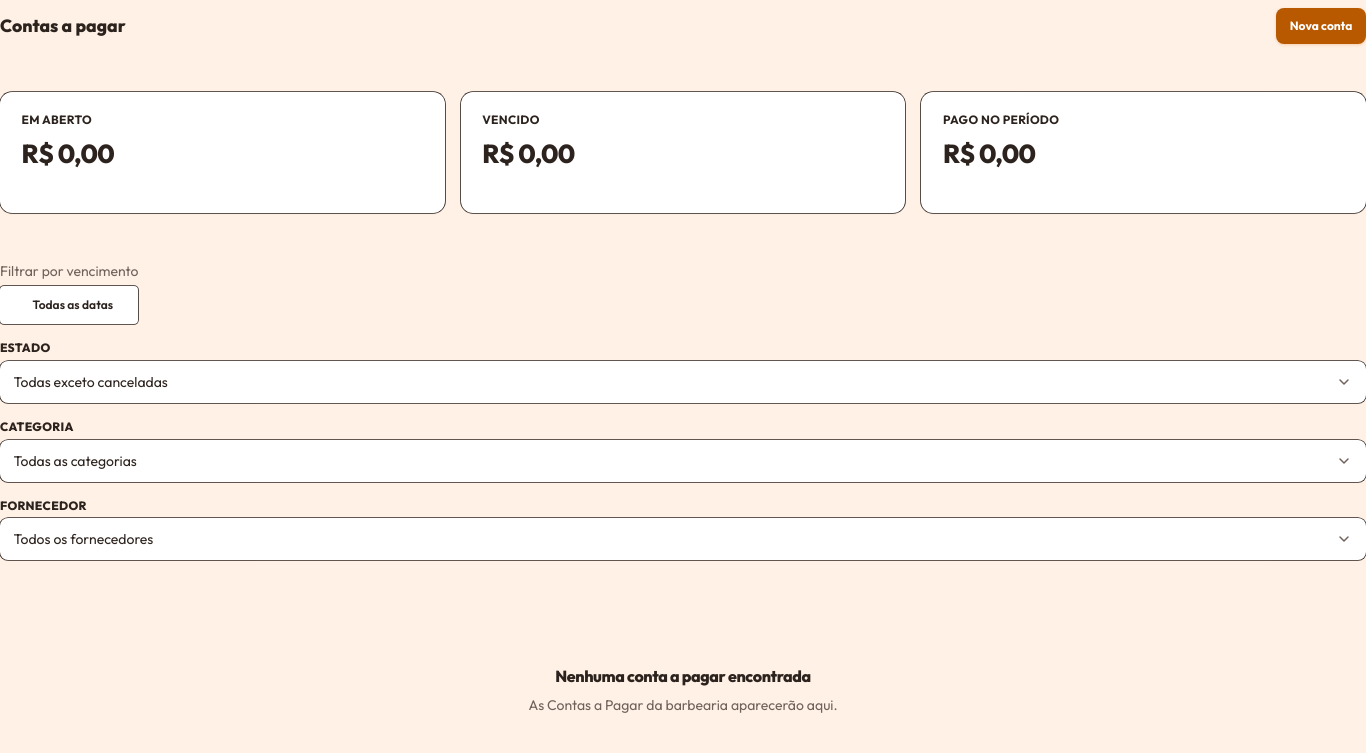
Test: ContasPagarTab (adaptador simulado) › voltar para a variante Avulsa limpa a prévia da Recorrência
The width and height of the screenshot is (1366, 753).
Expected: the heading "Nenhuma conta a pagar encontrada" is shown, [555,664,811,688]
Click the button "Nova conta" at (1321, 26), box [1276,8,1365,44]
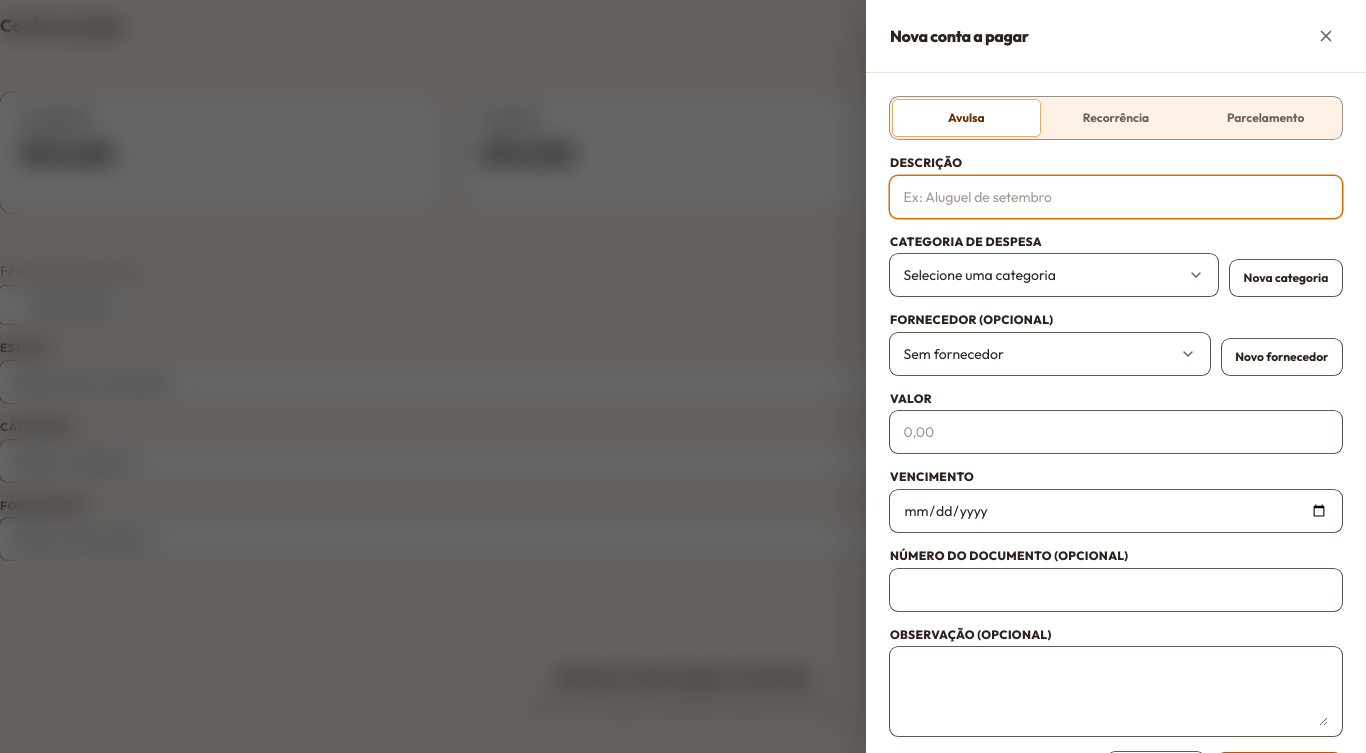
Now the field labelled "Descrição" is shown, box [904,179,1328,215]
Click the tab "Recorrência" at (1116, 118), box [1043,100,1189,136]
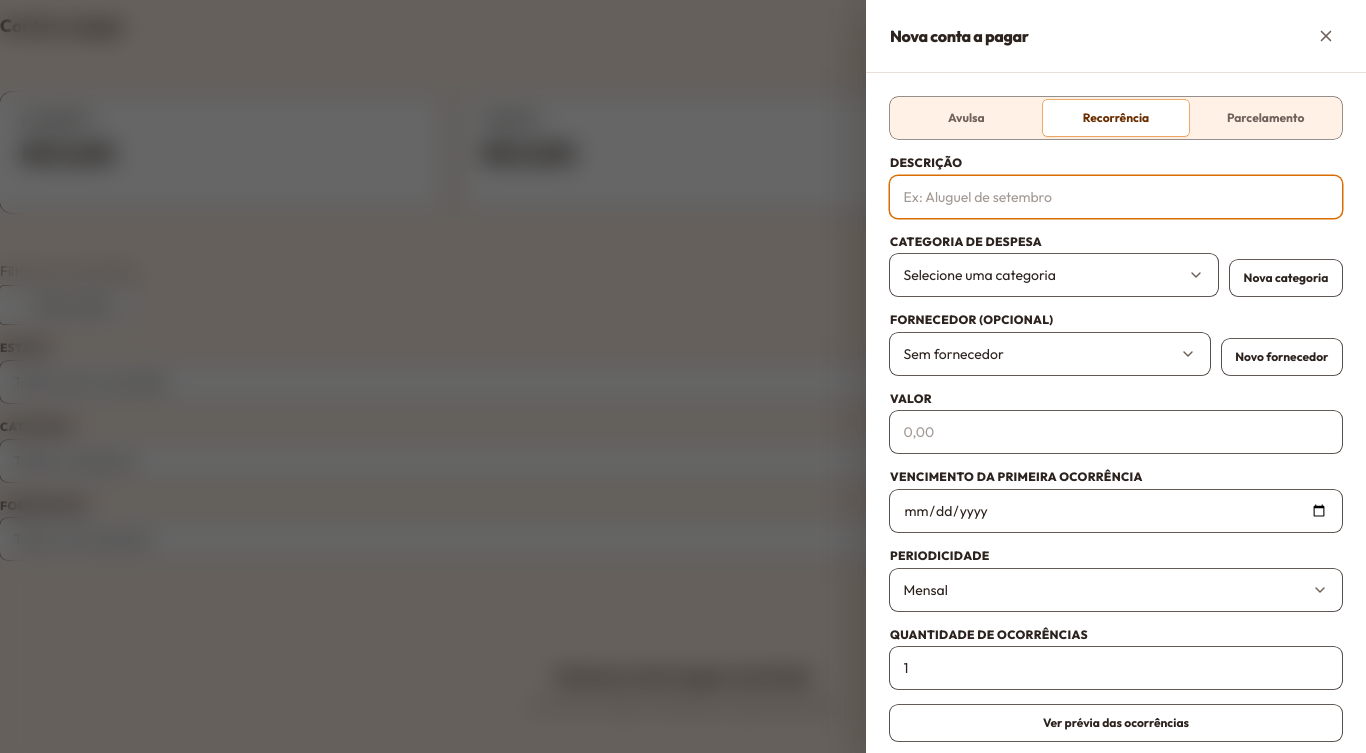
Type "1000" into the field labelled "Valor" at (1116, 432), box [904,414,1328,450]
Type "2026-10-05" into the date field labelled "Vencimento da primeira ocorrência" at (1116, 511), box [904,493,1328,529]
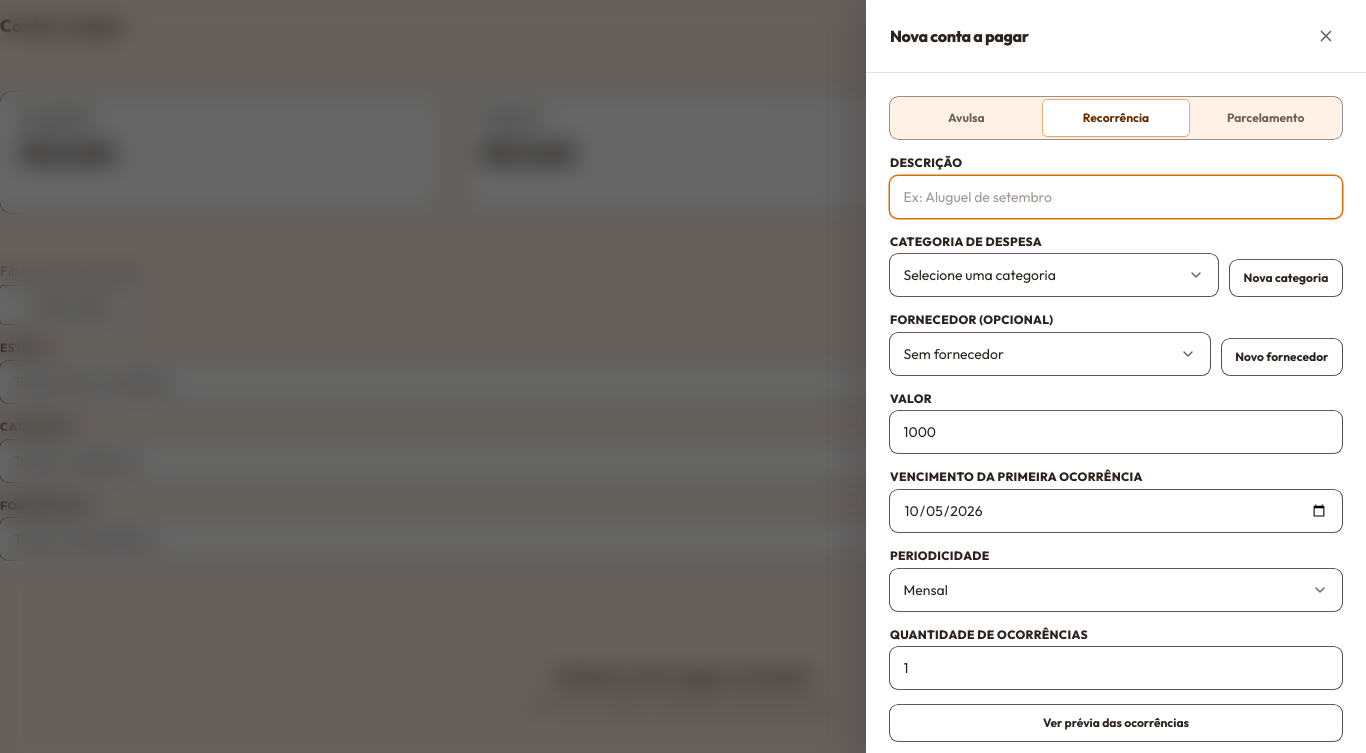
Replace the text in the number field labelled "Quantidade de ocorrências" with "3" at (1116, 668), box [904,650,1328,686]
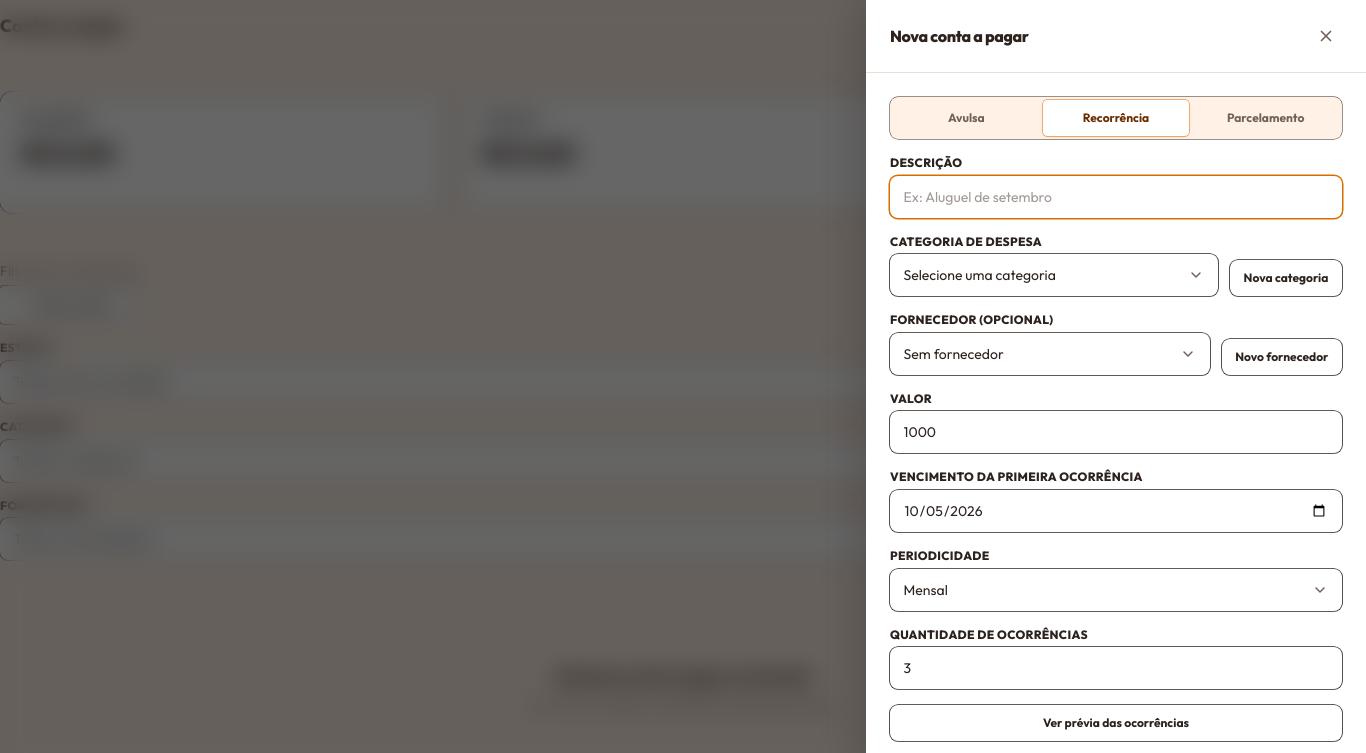
Click the button "Ver prévia das ocorrências" at (1116, 723), box [890,705,1342,741]
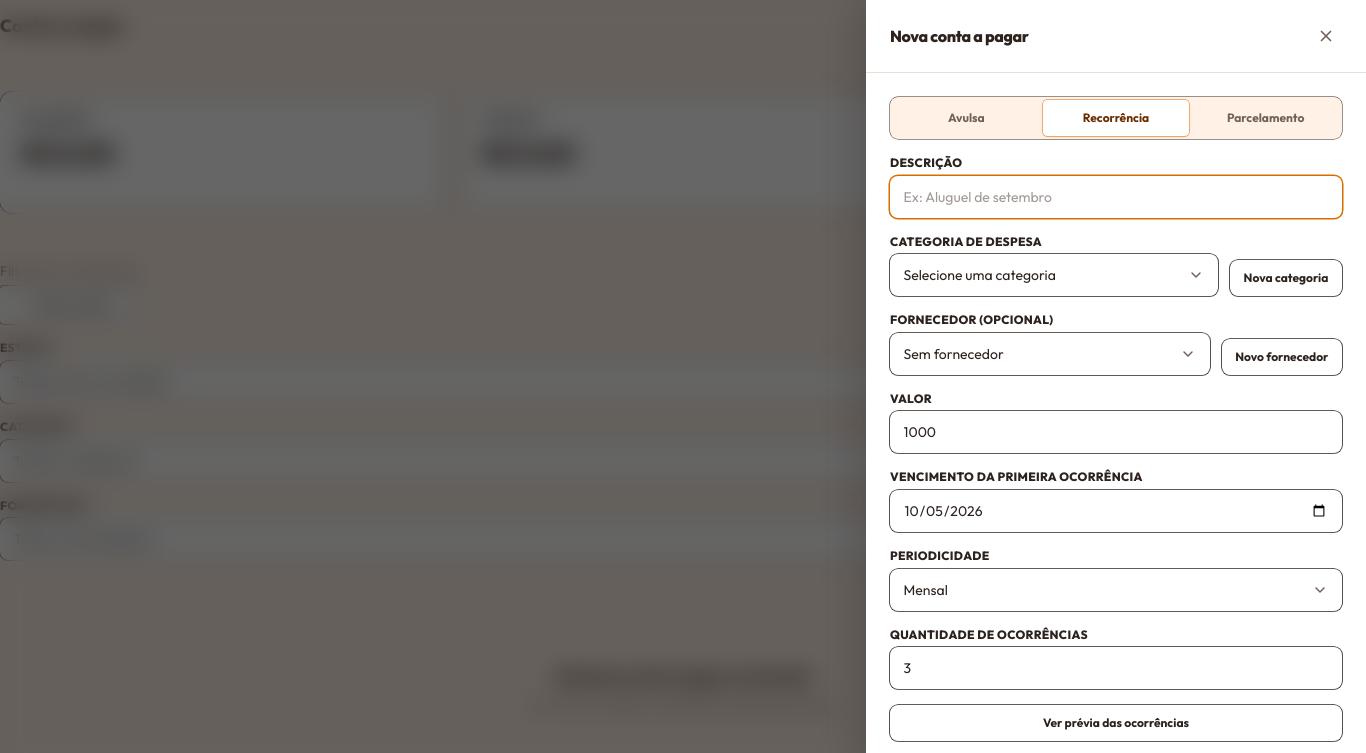
Click the tab "Avulsa" at (966, 118), box [893,100,1040,136]
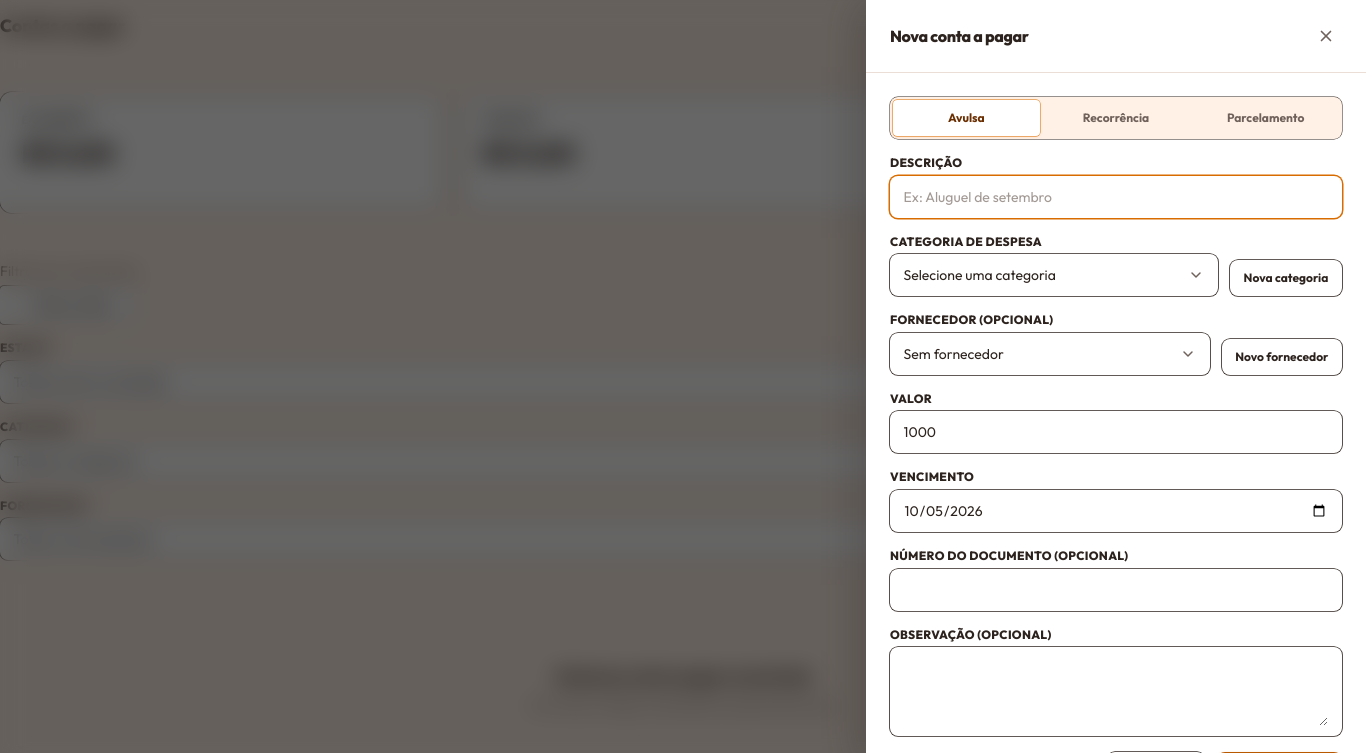
Now the button labelled "prévia das ocorrências" is gone
Now the label labelled "Periodicidade" is gone
